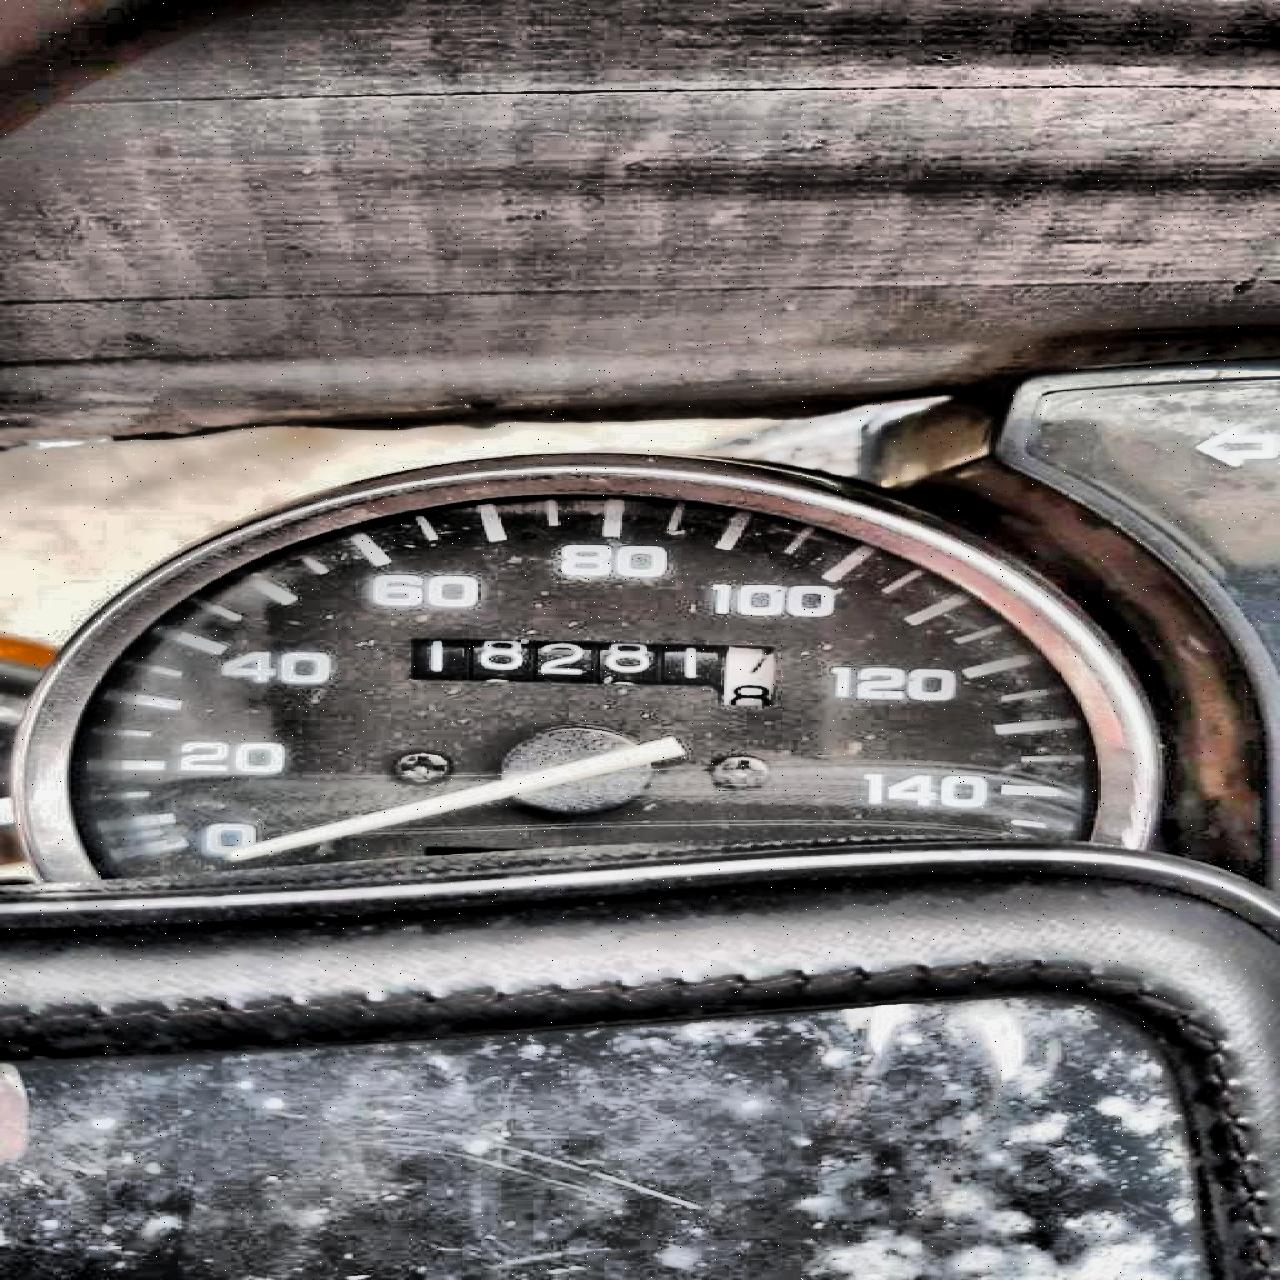1: (672, 639, 704, 693), (420, 635, 454, 681)
2: (539, 638, 584, 680)
7: (729, 639, 775, 674)
8: (478, 636, 524, 675), (605, 639, 654, 674), (724, 681, 771, 709)
odometer: (393, 631, 789, 712)
